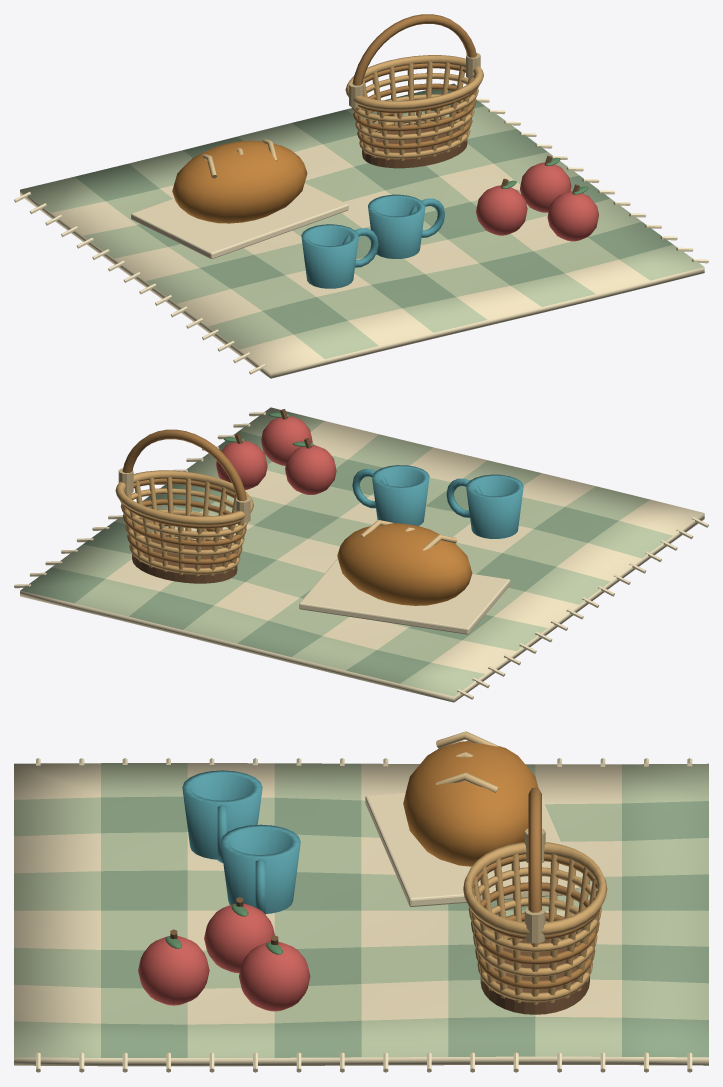
Rendered from SM_PicnicSet.fbx.
3 renders of one model, top to bottom at view 1: azimuth 30°, elevation 25°; view 2: azimuth 150°, elevation 25°; view 3: azimuth 270°, elevation 25°, orthographic. The views are drawn at different scales.
Parts seen in each view (by area): view 1: SM_PicnicSet; view 2: SM_PicnicSet; view 3: SM_PicnicSet.
Part boxes in pixels (bbox=[...]): SM_PicnicSet: bbox=[14, 14, 708, 378]; SM_PicnicSet: bbox=[14, 407, 708, 702]; SM_PicnicSet: bbox=[14, 731, 708, 1072].
Bounding box in the file's own units: 2.11 × 2 × 0.6483.
